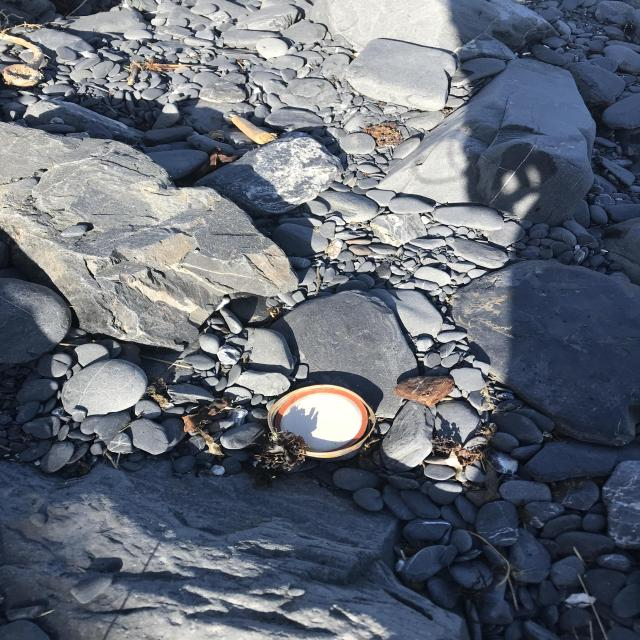litter: (513, 199, 603, 278)
